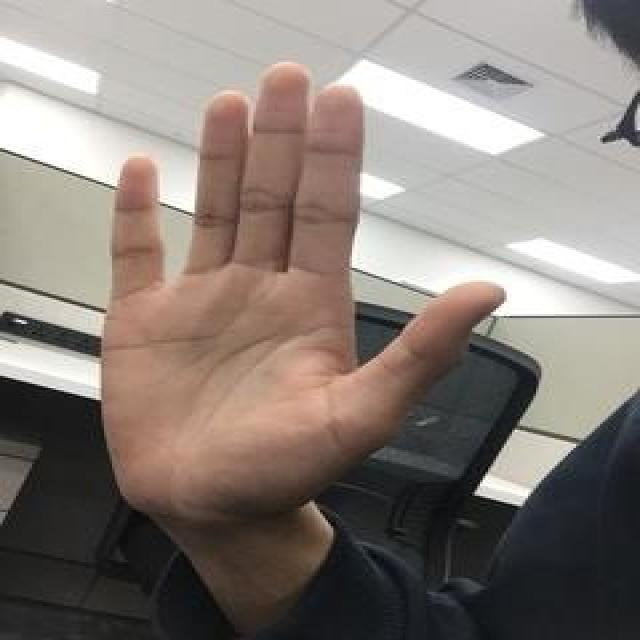hand: (114, 60, 514, 506)
